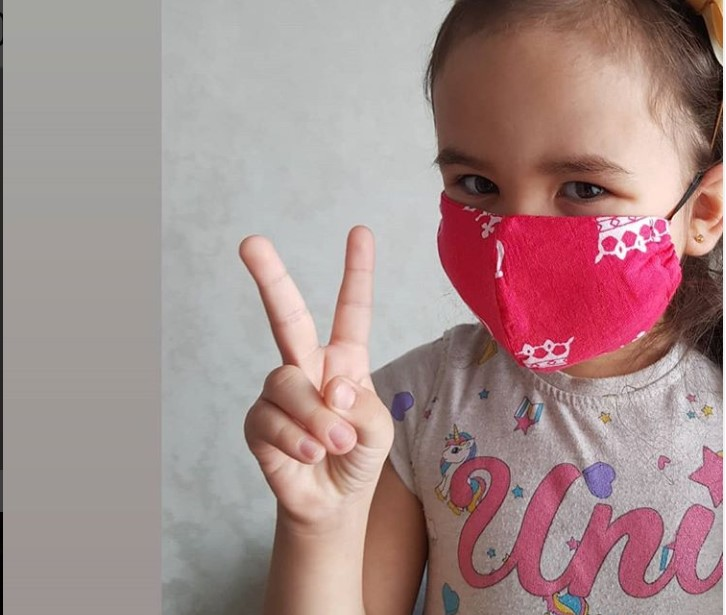face_with_mask: (429, 6, 715, 374)
